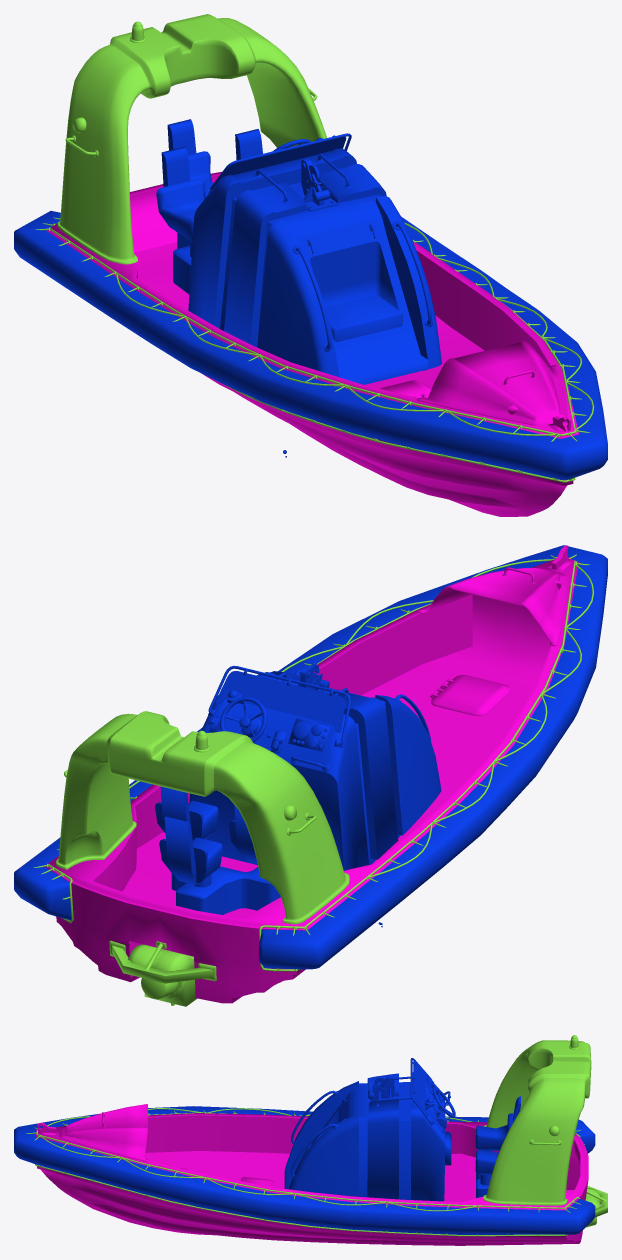
Rendered from Boat.fbx.
The picture shows the model from 3 angles, top to bottom: view 1: azimuth 30°, elevation 25°; view 2: azimuth 150°, elevation 25°; view 3: azimuth 270°, elevation 25°; orthographic projection. The views are drawn at different scales.
Visible parts, largest first — view 1: ovladanie1_low, plachta_low, hull_low, spoiler_low, predok1_low, sedacka_01_low, lano1, ovladanie2_low, lano2, ovladanie3_low, ovladanie_sklo, lano_viazanie (+2 smaller); view 2: hull_low, spoiler_low, plachta_low, ovladanie1_low, sedacka_01_low, predok1_low, ovladanie_sklo, sedacka_podstavec_low, dvierka1_low, lano1, motor1_low, lano2 (+5 smaller); view 3: hull_low, plachta_low, ovladanie1_low, spoiler_low, predok1_low, lano1, sedacka_01_low, lano2, ovladanie3_low, ovladanie_sklo, zavesenie1_low, lano_viazanie (+1 smaller).
Part boxes in pixels (left/top/right/bottom): ovladanie1_low: left=188, top=148, right=441, bottom=384; plachta_low: left=14, top=211, right=607, bottom=479; hull_low: left=46, top=172, right=578, bottom=516; spoiler_low: left=57, top=14, right=326, bottom=264; predok1_low: left=417, top=340, right=567, bottom=425; sedacka_01_low: left=156, top=119, right=262, bottom=243; lano1: left=50, top=223, right=575, bottom=482; ovladanie2_low: left=325, top=295, right=402, bottom=342; lano2: left=116, top=222, right=594, bottom=435; ovladanie3_low: left=204, top=154, right=432, bottom=352; ovladanie_sklo: left=220, top=136, right=346, bottom=179; lano_viazanie: left=35, top=217, right=590, bottom=480; hull_low: left=45, top=559, right=578, bottom=1003; spoiler_low: left=56, top=711, right=349, bottom=924; plachta_low: left=14, top=545, right=607, bottom=969; ovladanie1_low: left=189, top=671, right=441, bottom=870; sedacka_01_low: left=155, top=786, right=257, bottom=884; predok1_low: left=416, top=567, right=567, bottom=646; ovladanie_sklo: left=215, top=671, right=345, bottom=732; sedacka_podstavec_low: left=171, top=866, right=280, bottom=914; dvierka1_low: left=430, top=675, right=510, bottom=716; lano1: left=48, top=560, right=575, bottom=971; motor1_low: left=109, top=940, right=216, bottom=983; lano2: left=129, top=559, right=593, bottom=877; hull_low: left=35, top=1113, right=588, bottom=1245; plachta_low: left=14, top=1106, right=595, bottom=1234; ovladanie1_low: left=284, top=1072, right=445, bottom=1201; spoiler_low: left=483, top=1040, right=591, bottom=1205; predok1_low: left=59, top=1104, right=148, bottom=1161; lano1: left=35, top=1112, right=580, bottom=1236; sedacka_01_low: left=475, top=1096, right=520, bottom=1174; lano2: left=41, top=1108, right=476, bottom=1211; ovladanie3_low: left=291, top=1076, right=450, bottom=1179; ovladanie_sklo: left=413, top=1061, right=428, bottom=1116; zavesenie1_low: left=367, top=1076, right=395, bottom=1105; lano_viazanie: left=26, top=1110, right=584, bottom=1235.
Bounding box in the file's own units: 80.29 × 78.16 × 200.
